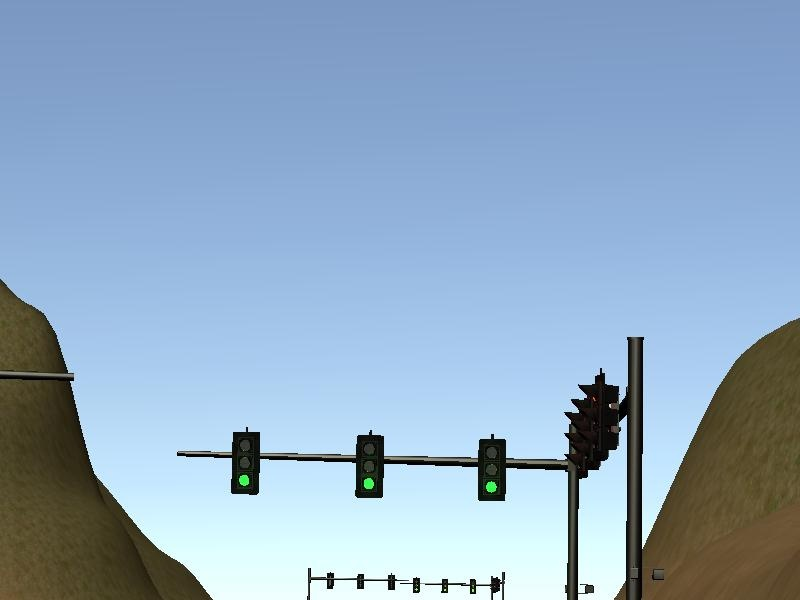GREEN: (232, 434, 261, 495), (478, 442, 505, 500), (358, 436, 383, 496)
